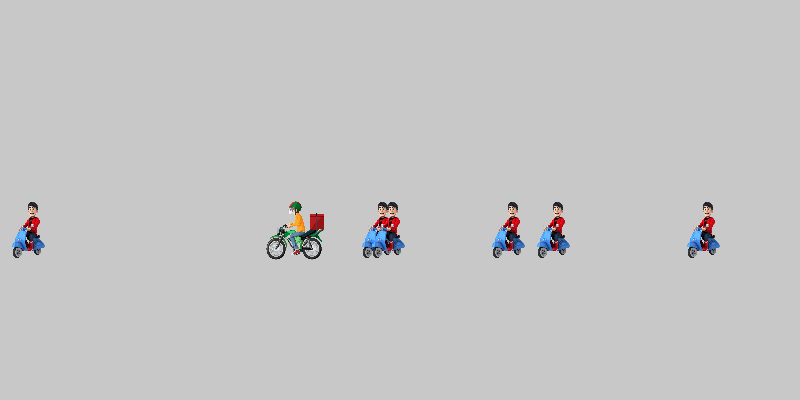helmet: (265, 200, 325, 260)
no_helmet: (0, 200, 60, 260), (350, 200, 410, 260), (360, 200, 420, 260), (480, 200, 540, 260), (525, 200, 585, 260), (675, 200, 735, 260)
